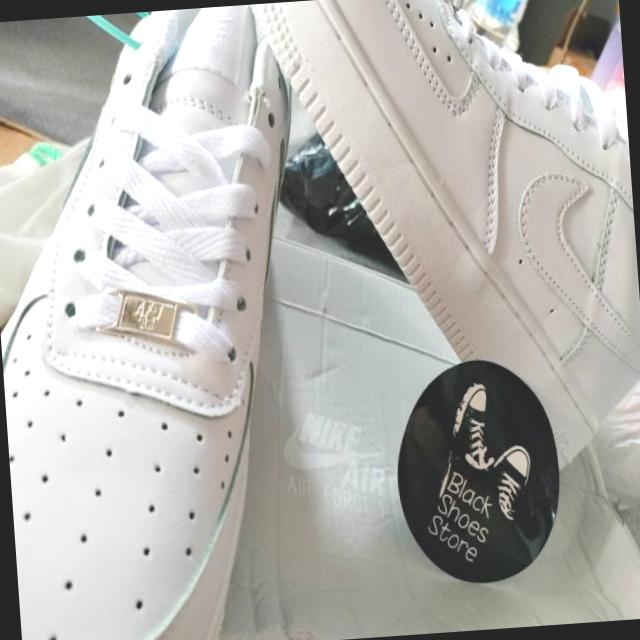nike_fake_airforce: (0, 1, 334, 640), (239, 0, 640, 454)
